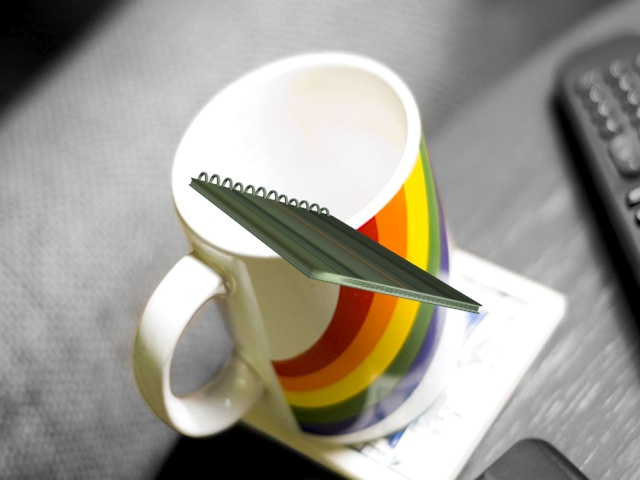paper_notebook: (177, 161, 488, 321)
